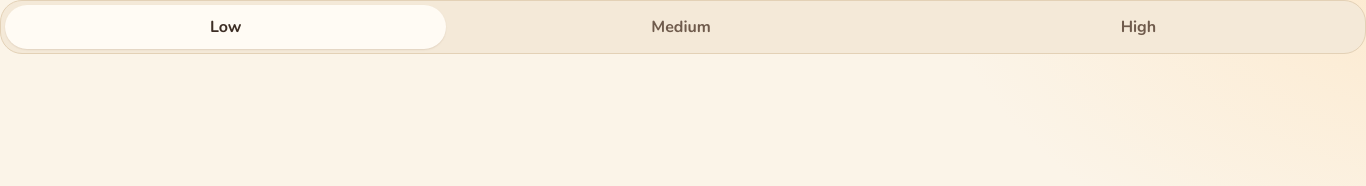
Test case: SegmentedControl › selects with click and arrow keys
expect the element named "Energy" is shown: met, box [0,0,1365,54]
Click the radio button labelled "Medium": click(681, 27) [446,5,916,49]
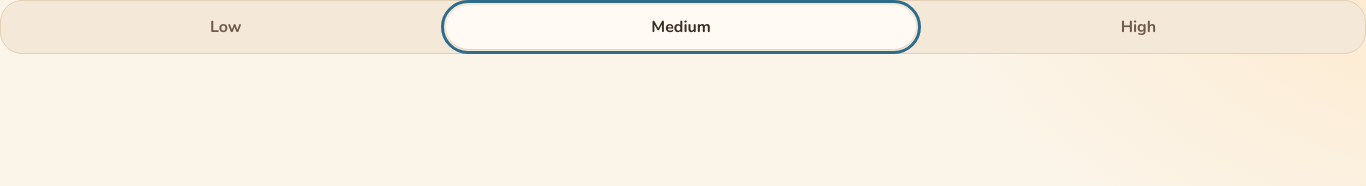
expect the radio button labelled "Medium" is checked: met, box [446,5,916,49]
Press Arrowright
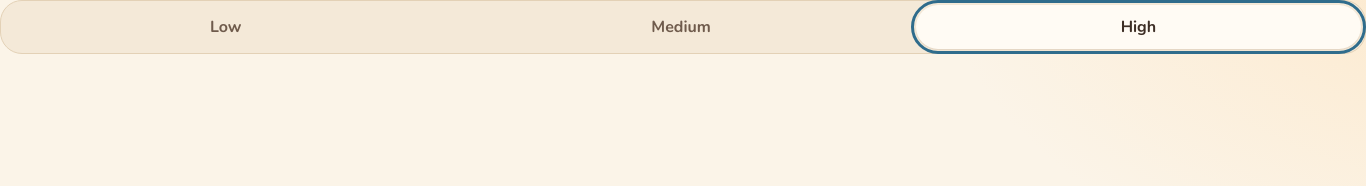
expect the radio button labelled "High" is checked: met, box [916,5,1361,49]
Press Arrowright
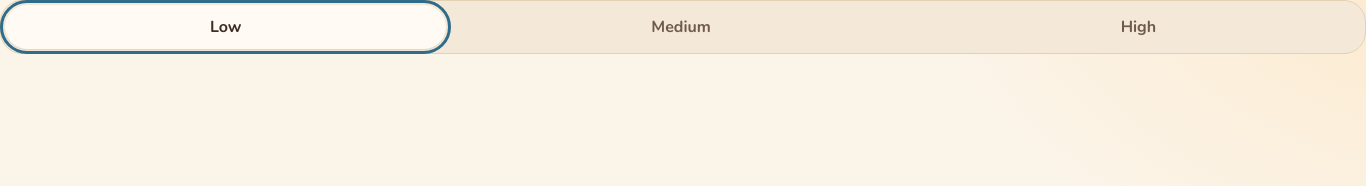
expect the radio button labelled "Low" is checked: met, box [5,5,446,49]
